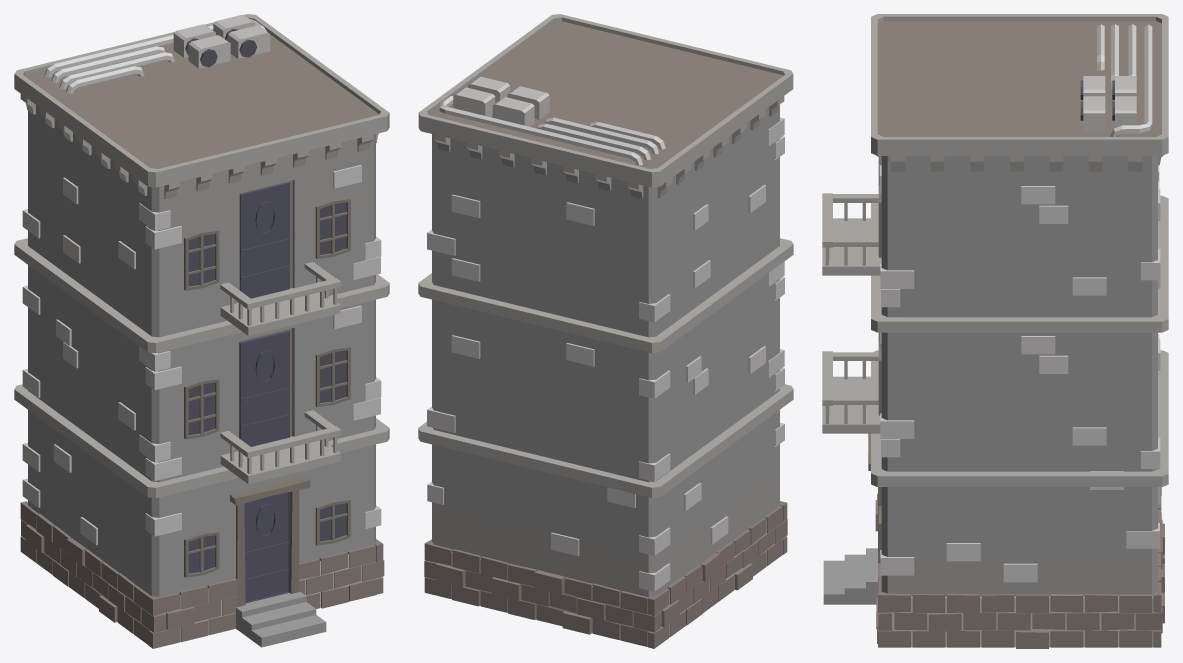
Rendered from 3Story Balcony.glb.
The picture shows the model from 3 angles, left to right: view 1: azimuth 30°, elevation 25°; view 2: azimuth 150°, elevation 25°; view 3: azimuth 270°, elevation 25°; orthographic projection. The views are drawn at different scales.
Parts seen in each view (by area): view 1: 3Story_Balcony; view 2: 3Story_Balcony; view 3: 3Story_Balcony.
Part boxes in pixels (<box>): 3Story_Balcony: <box>14,14,389,648</box>; 3Story_Balcony: <box>418,14,793,648</box>; 3Story_Balcony: <box>822,14,1168,648</box>.
Bounding box in the file's own units: 5.18 × 10.11 × 6.02.
Materials: 1 (1 with a texture image).
